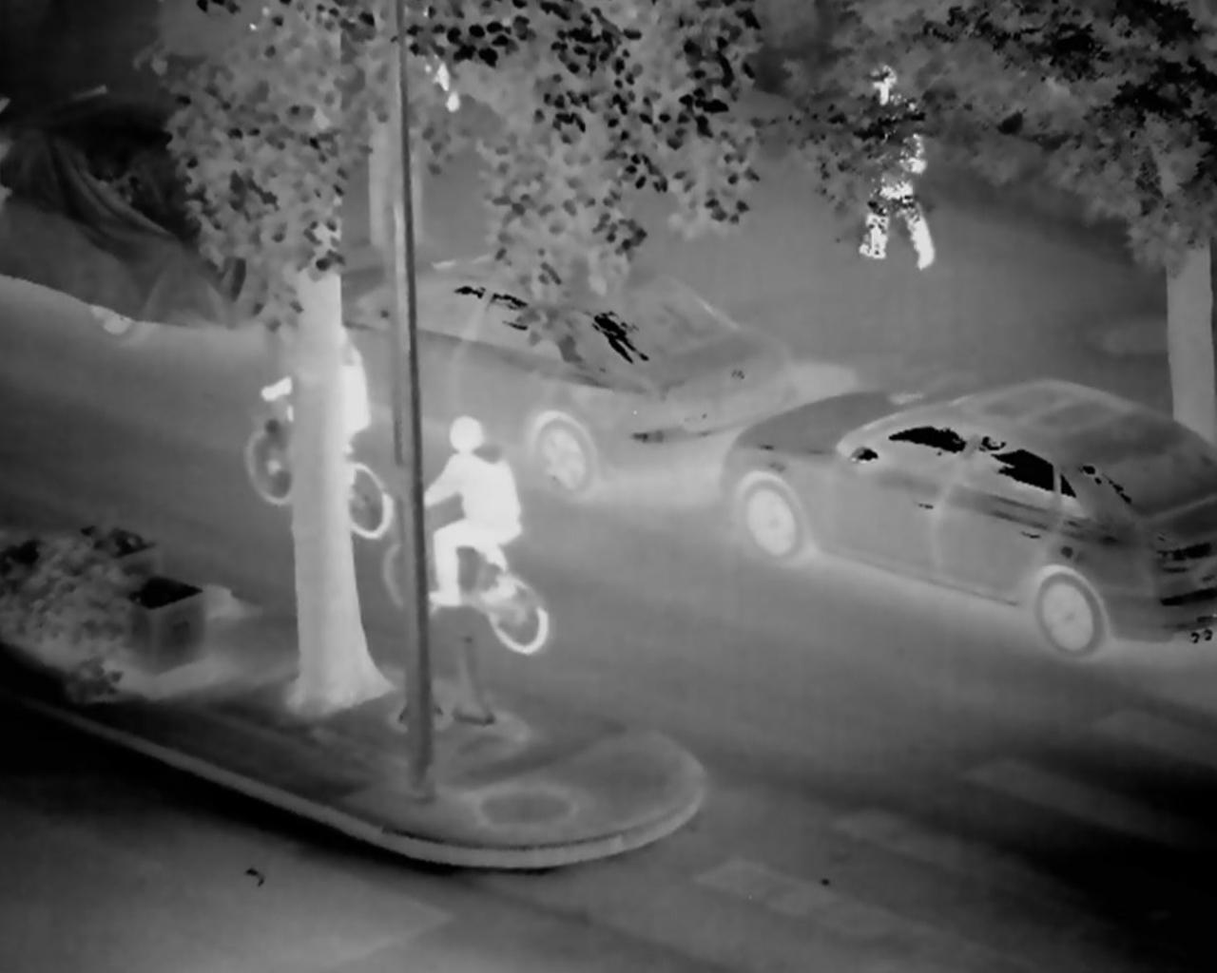person: (401, 413, 534, 632), (859, 59, 945, 276), (269, 327, 376, 456)
